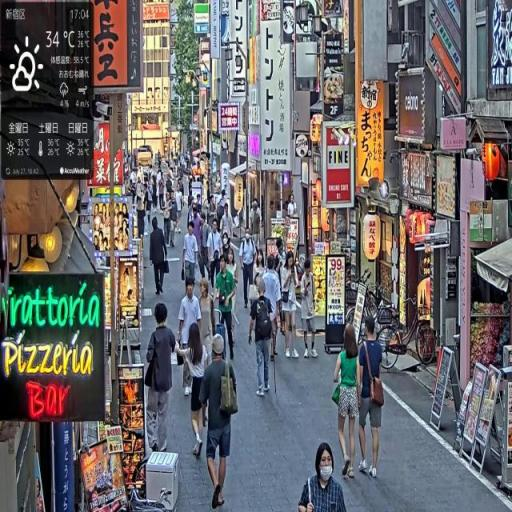person: (200, 335, 241, 511), (145, 304, 188, 455), (334, 323, 363, 484), (357, 318, 385, 479), (297, 441, 349, 512), (183, 327, 210, 460), (249, 276, 276, 399), (178, 278, 203, 397), (215, 252, 238, 365), (262, 252, 283, 365), (280, 253, 301, 361), (300, 260, 320, 361), (150, 217, 169, 297), (241, 231, 257, 312), (183, 221, 200, 292), (209, 217, 224, 295), (163, 190, 178, 251)
